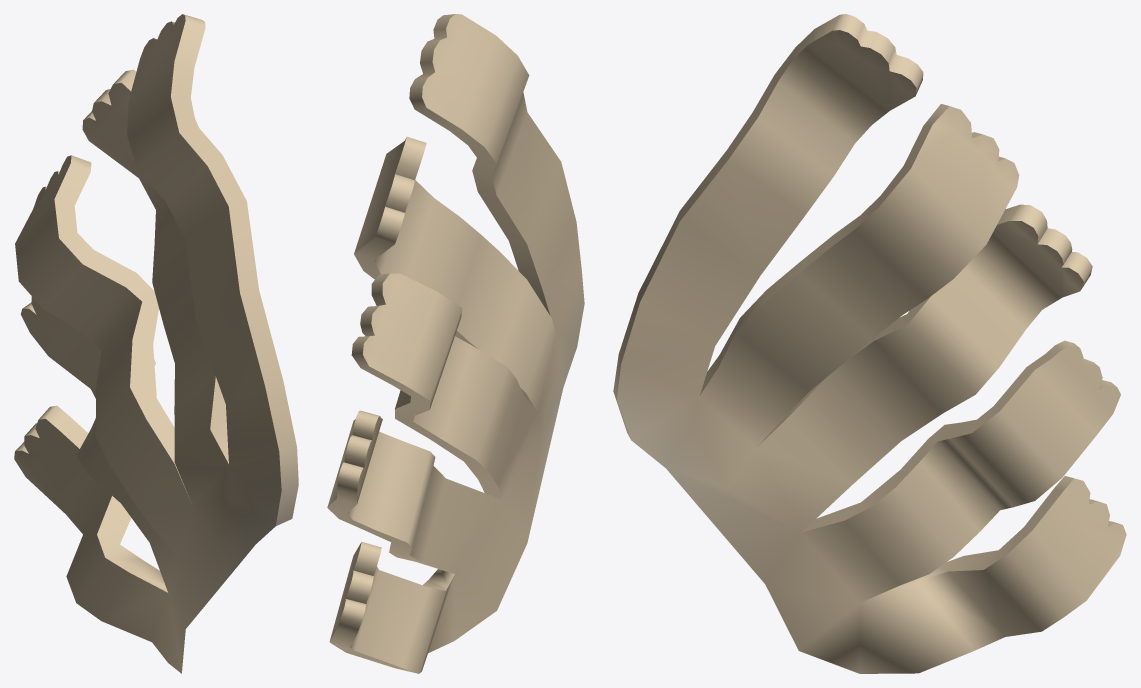
Rendered from S12_Aquatic06_L2_Back.glb.
3 renders of one model, left to right at view 1: azimuth 30°, elevation 25°; view 2: azimuth 150°, elevation 25°; view 3: azimuth 270°, elevation 25°, orthographic. The views are drawn at different scales.
Visible parts, largest first — view 1: S12_Aquatic06_L2_Back__Back_M__surface0__lod0; view 2: S12_Aquatic06_L2_Back__Back_M__surface0__lod0; view 3: S12_Aquatic06_L2_Back__Back_M__surface0__lod0.
Part boxes in pixels (<box>): S12_Aquatic06_L2_Back__Back_M__surface0__lod0: <box>14,14,298,673</box>; S12_Aquatic06_L2_Back__Back_M__surface0__lod0: <box>327,14,584,673</box>; S12_Aquatic06_L2_Back__Back_M__surface0__lod0: <box>613,14,1126,673</box>.
Bounding box in the file's own units: 15.02 × 81.38 × 57.82.
